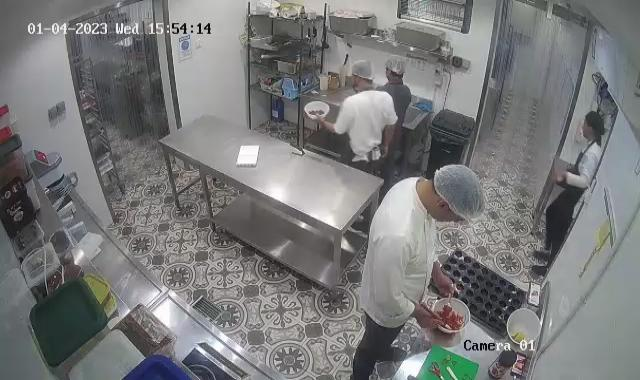hairnet: (435, 164, 484, 222), (383, 54, 407, 78), (350, 59, 374, 82)
no_hairnet: (582, 111, 604, 145)
